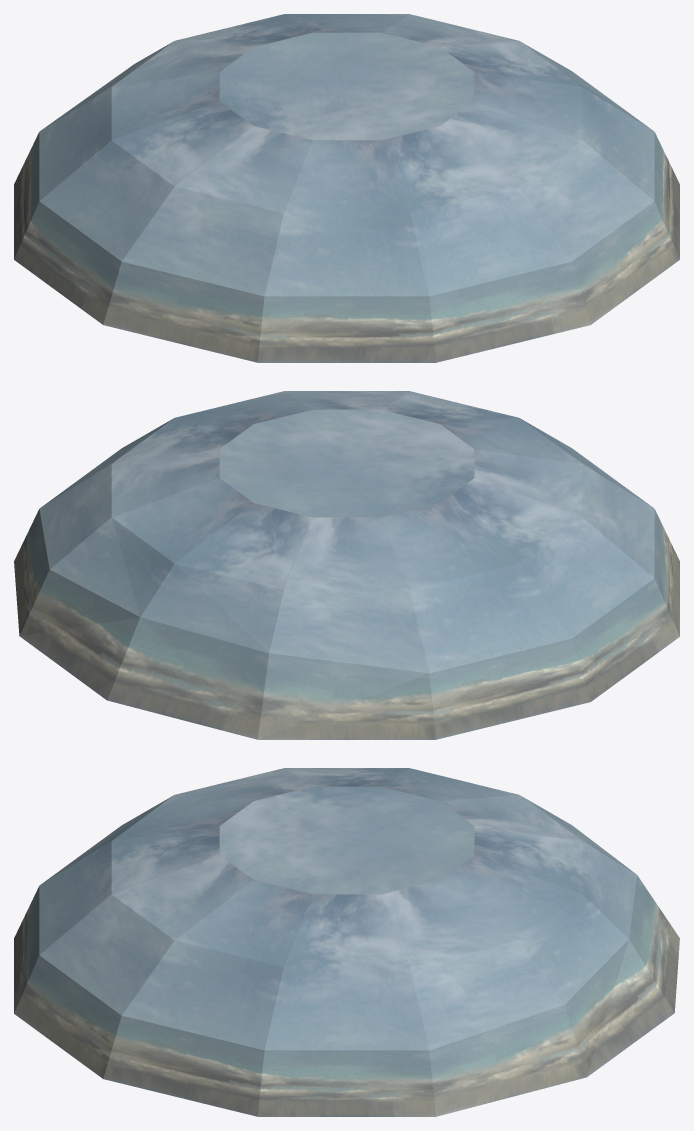
File: recovered_map_m72.glb
3 renders of one model, top to bottom at view 1: azimuth 30°, elevation 25°; view 2: azimuth 150°, elevation 25°; view 3: azimuth 270°, elevation 25°, orthographic.
Parts seen in each view (by area): view 1: S_sky_m72; view 2: S_sky_m72; view 3: S_sky_m72.
Boxes of the visible parts, <box> form: S_sky_m72: <box>14,14,679,362</box>; S_sky_m72: <box>14,391,679,739</box>; S_sky_m72: <box>14,768,679,1116</box>.
Size of what is drawn, in the model's own units: 492 by 111 by 492.
120 materials, 120 textured.
